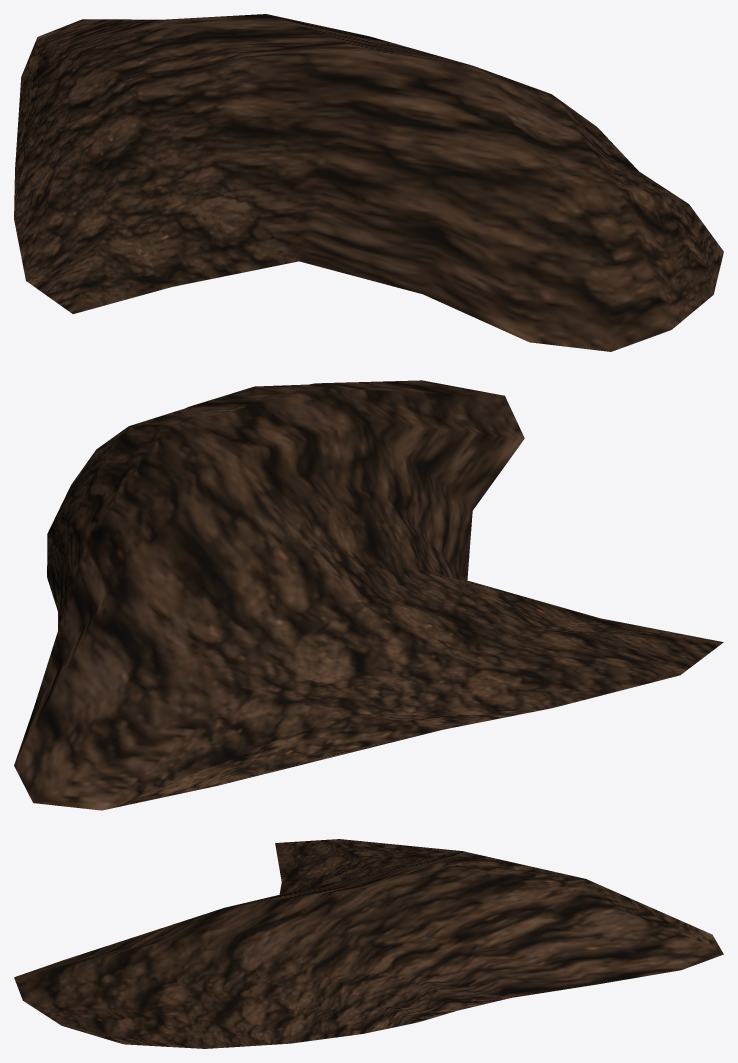
3 renders of one model, top to bottom at view 1: azimuth 30°, elevation 25°; view 2: azimuth 150°, elevation 25°; view 3: azimuth 270°, elevation 25°, orthographic. The views are drawn at different scales.
Parts seen in each view (by area): view 1: Plane037_atlas_granja_0; view 2: Plane037_atlas_granja_0; view 3: Plane037_atlas_granja_0.
Part boxes in pixels (x1=…): Plane037_atlas_granja_0: x1=14, y1=14, x2=723, y2=351; Plane037_atlas_granja_0: x1=14, y1=380, x2=723, y2=810; Plane037_atlas_granja_0: x1=14, y1=839, x2=723, y2=1048.
Bounding box in the file's own units: 4.08 × 0.8445 × 5.79.
1 material, 1 textured.
